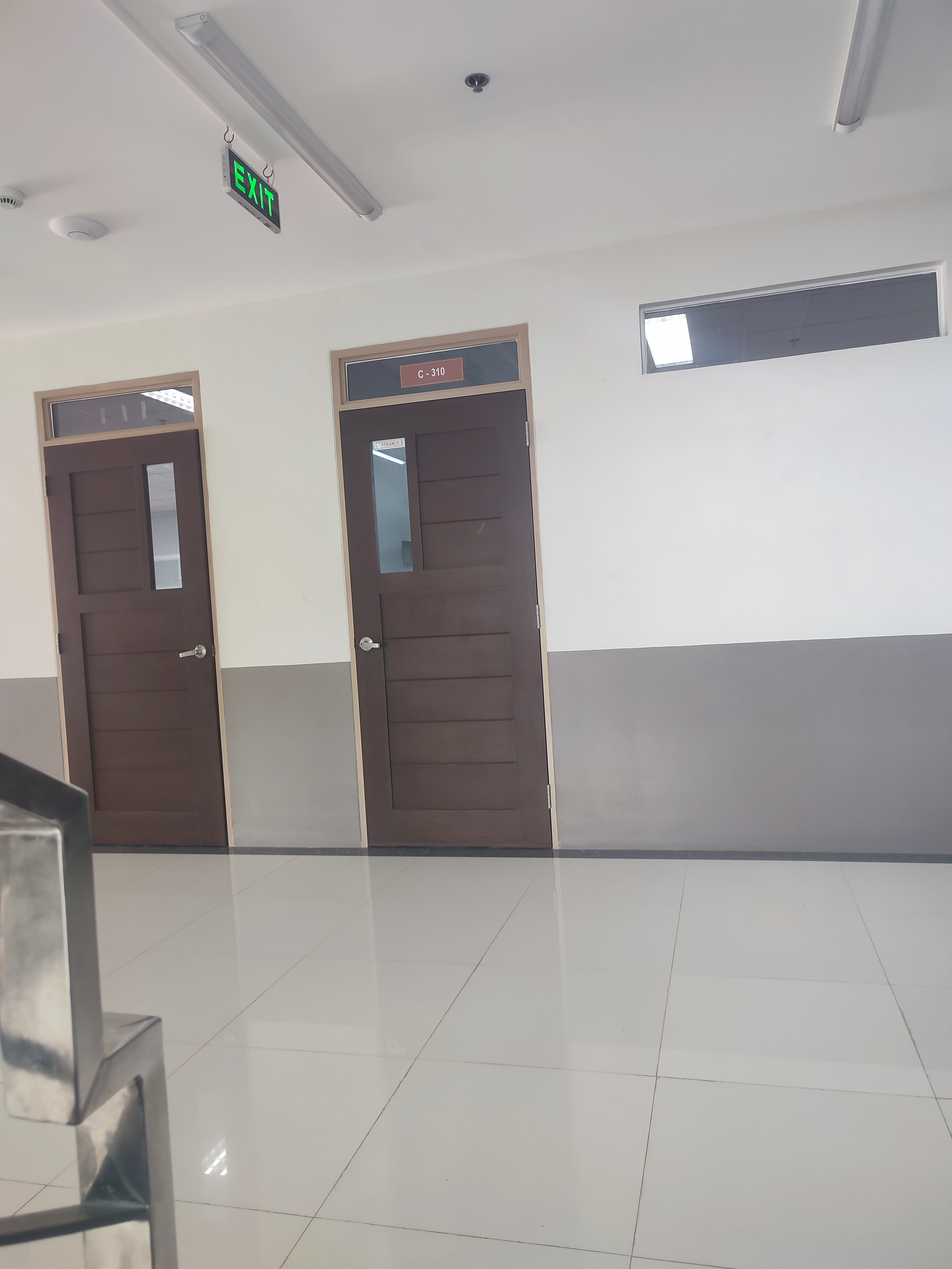door: (330, 323, 546, 859), (33, 371, 232, 856)
